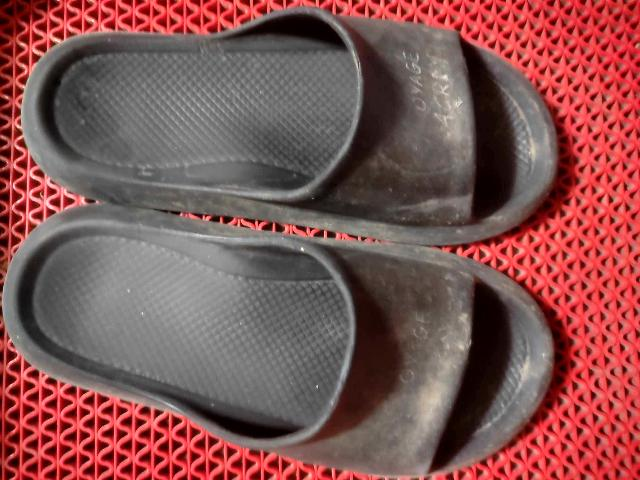sandal: (0, 205, 561, 480), (18, 0, 543, 254)
